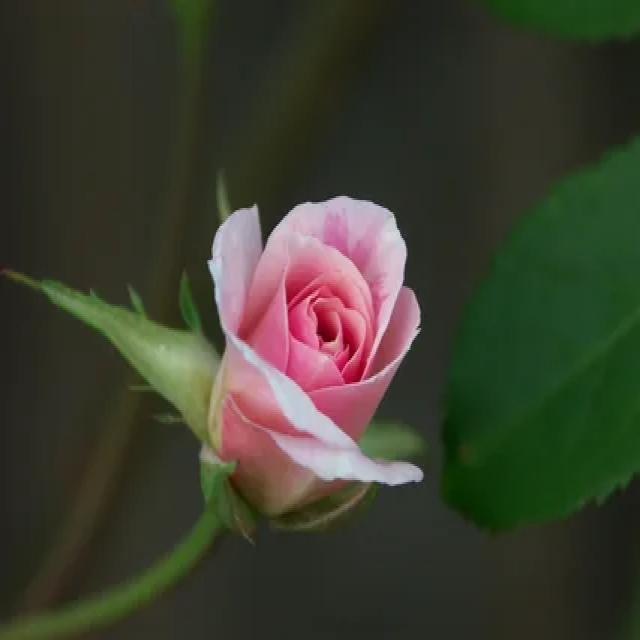rose: (190, 180, 432, 546)
